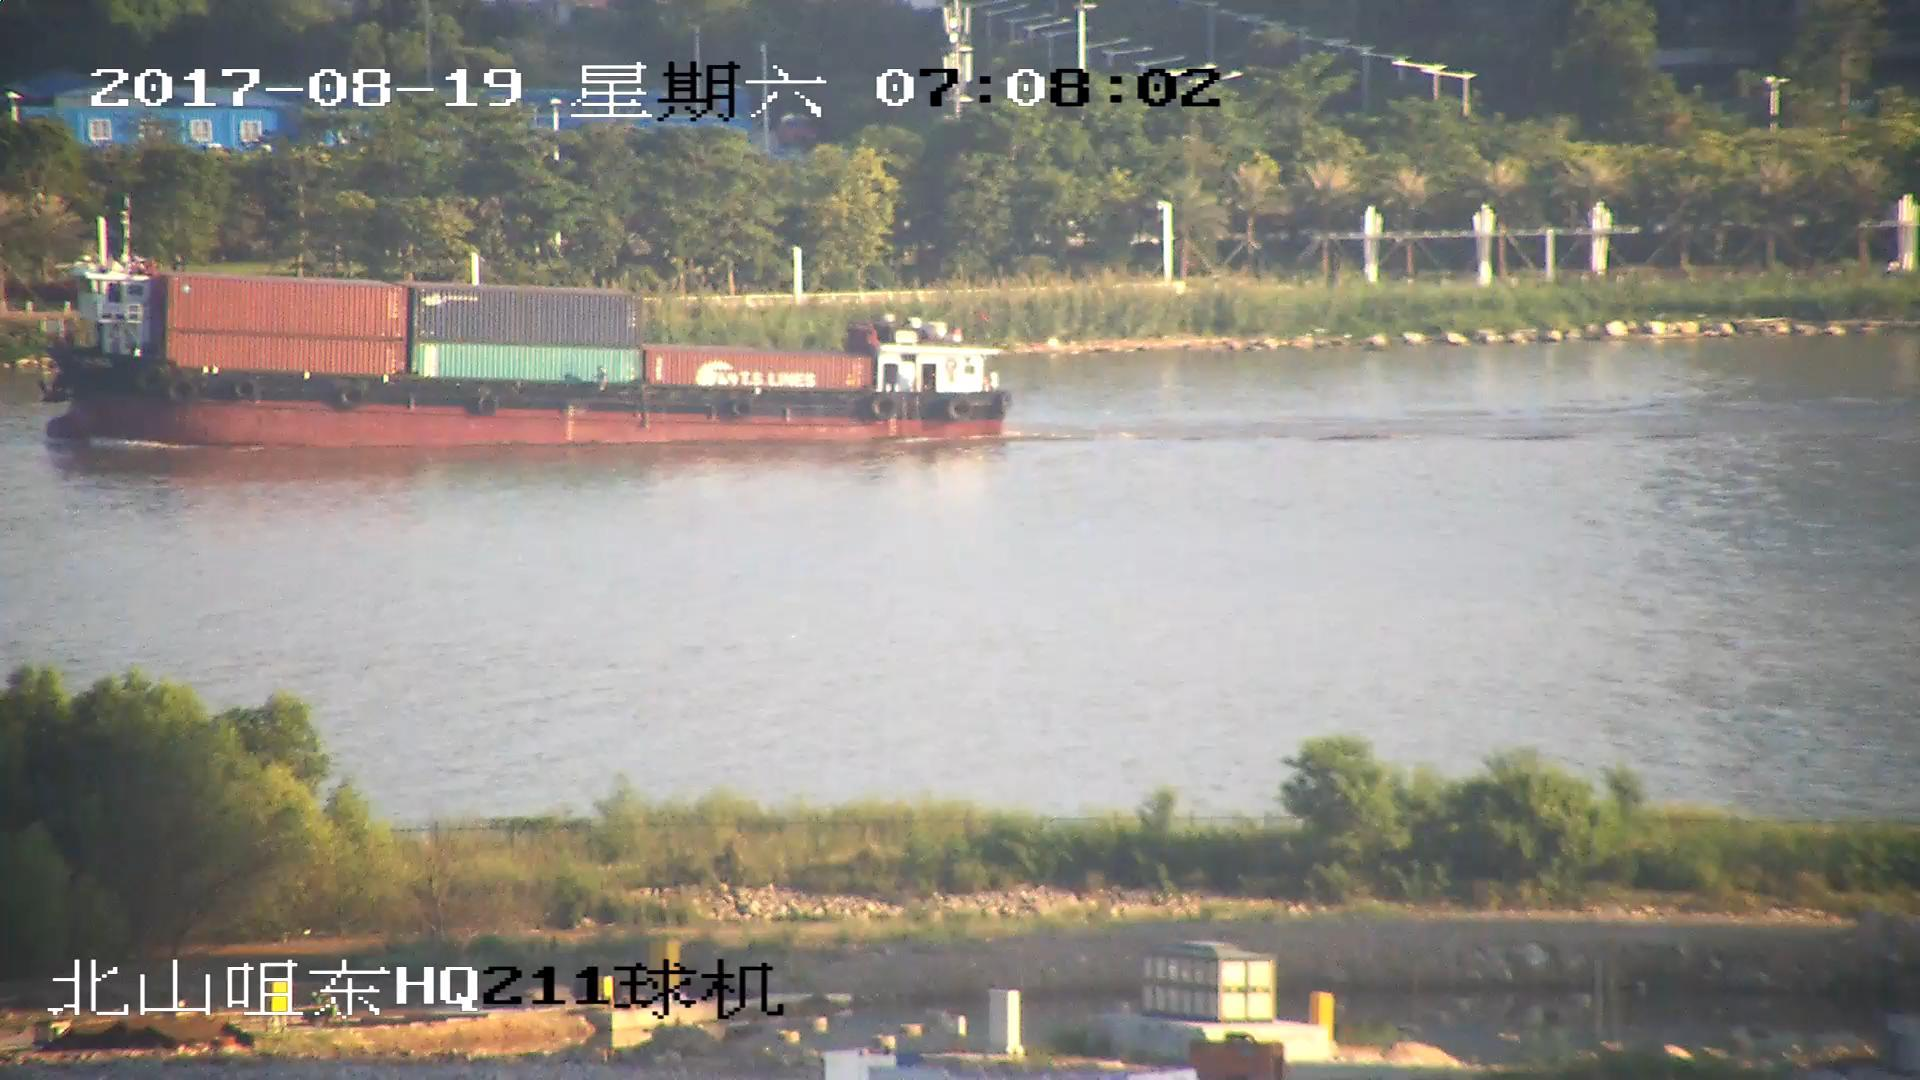Ship: (47, 208, 1011, 444)
